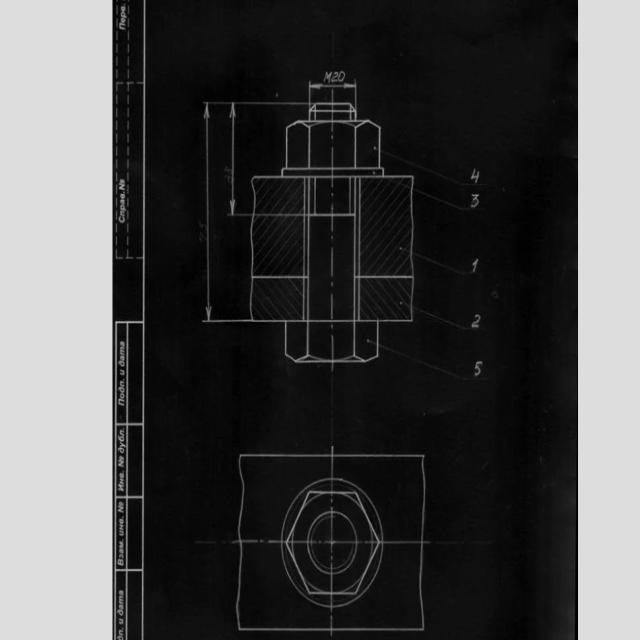marking_line: (202, 99, 250, 323), (197, 90, 309, 119), (225, 99, 250, 216), (307, 79, 359, 102)
numeric: (470, 167, 480, 183), (470, 313, 481, 327), (475, 360, 483, 377), (471, 193, 479, 208), (470, 258, 478, 273), (330, 70, 339, 82), (338, 69, 346, 82)
